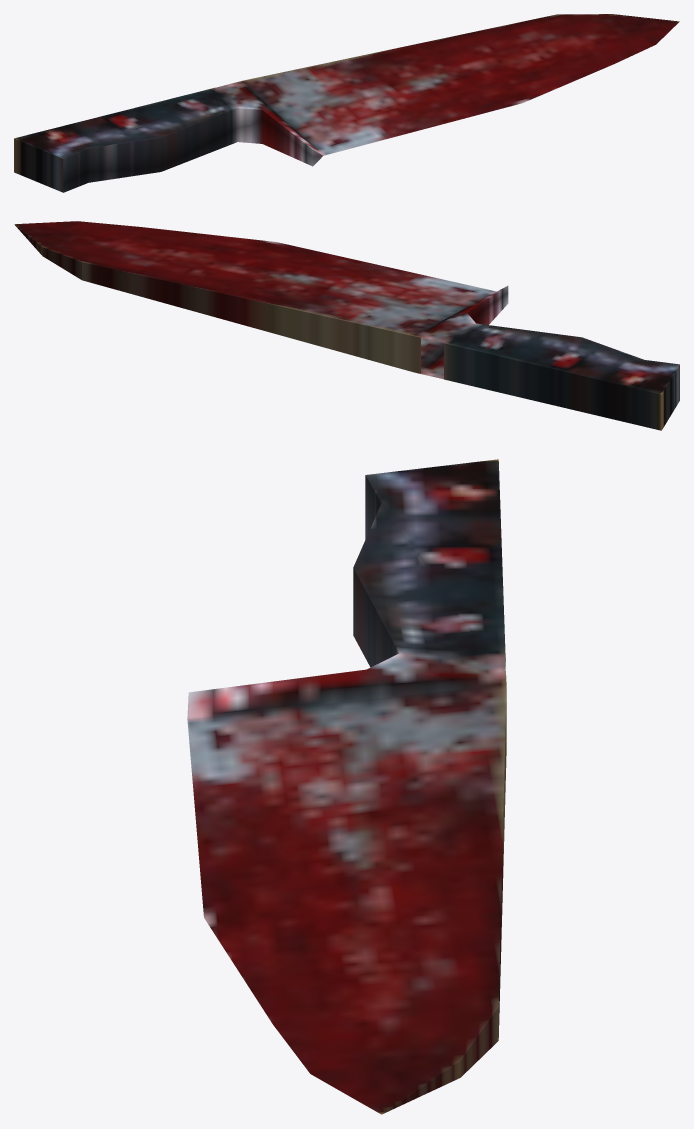
Rendered from knife.fbx.
The picture shows the model from 3 angles, top to bottom: view 1: azimuth 30°, elevation 25°; view 2: azimuth 150°, elevation 25°; view 3: azimuth 270°, elevation 25°; orthographic projection. The views are drawn at different scales.
Parts seen in each view (by area): view 1: ps1-meyers-knife-a; view 2: ps1-meyers-knife-a; view 3: ps1-meyers-knife-a.
Boxes of the visible parts, x1,y1,x2,y2 form: ps1-meyers-knife-a: (14,14,679,192); ps1-meyers-knife-a: (14,221,679,430); ps1-meyers-knife-a: (187,459,506,1114).
Size of the model in its own units: 3919 by 200 by 851.
Materials: 1 (1 with a texture image).
